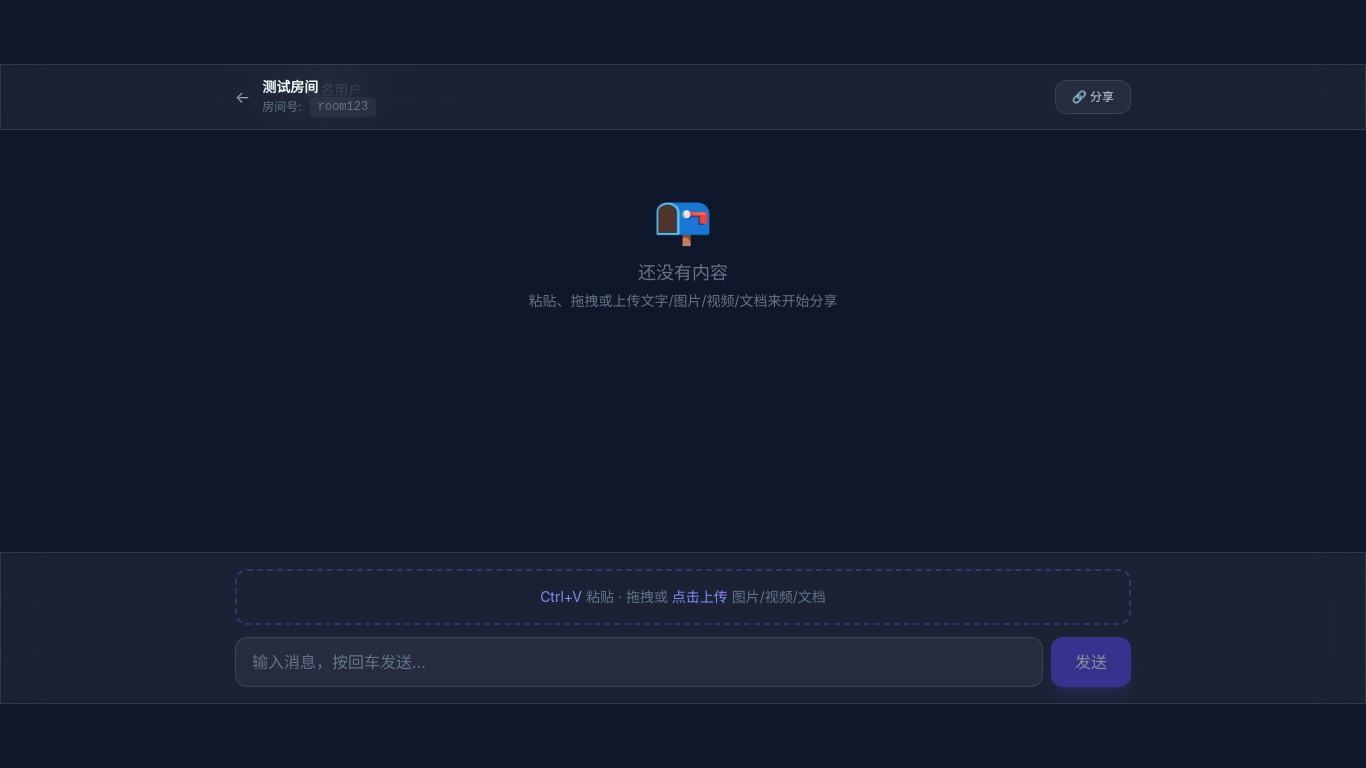
Test: Room Page — Send Text Message › appends directly without extra fetchMessages (no duplicate)
expect the text "还没有内容" is shown: met, box [638, 262, 728, 283]
Type "NoDup" into the field with placeholder "输入消息，按回车发送..." at (639,662), box [235, 637, 1043, 687]
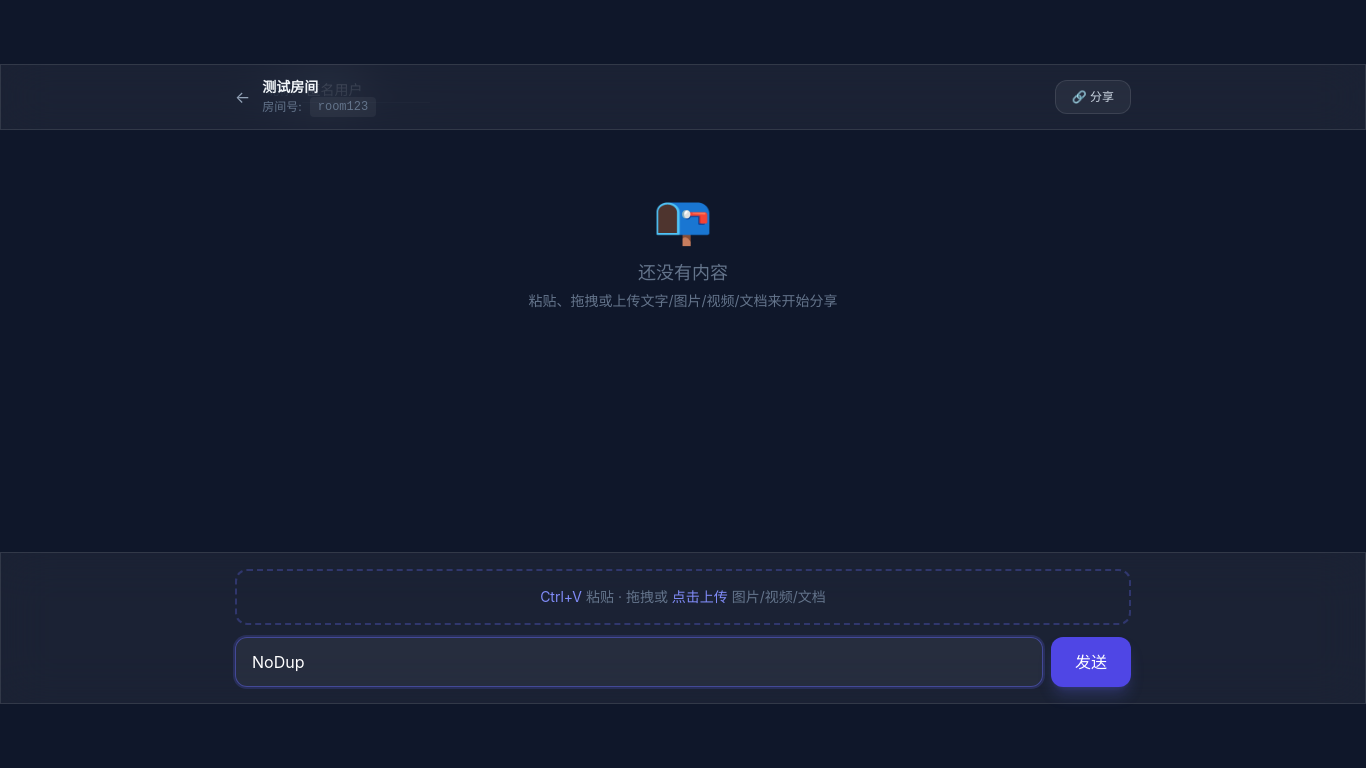
Click the button "发送" at (1091,662), box [1051, 637, 1131, 687]
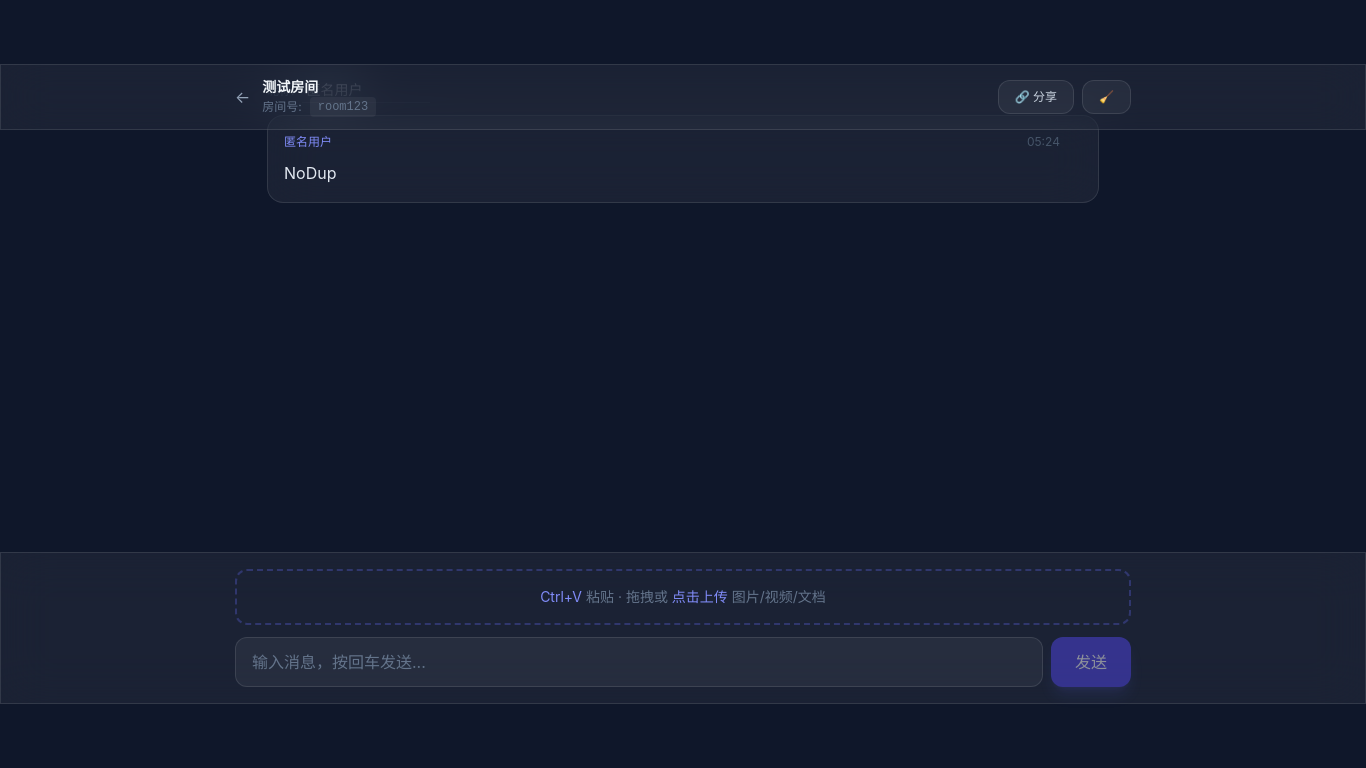
expect the text "NoDup" is shown: met, box [284, 163, 336, 183]
